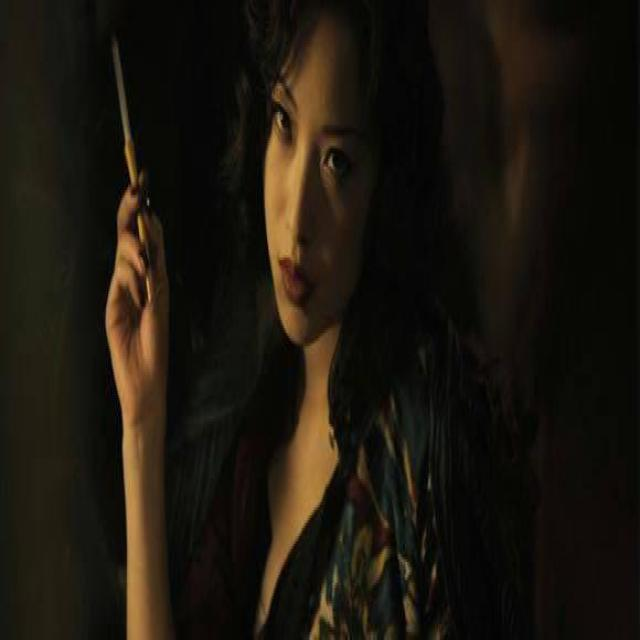cigarette: (95, 21, 159, 187)
